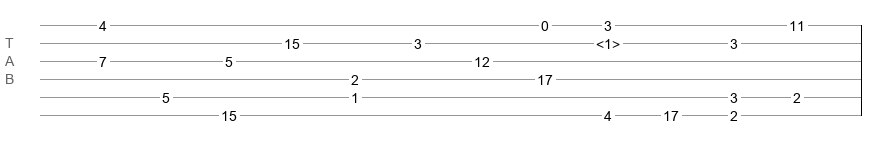0: (541, 18, 549, 28)
1: (351, 90, 359, 100)
11: (789, 18, 805, 28)
12: (474, 54, 490, 64)
15: (221, 108, 237, 118), (284, 36, 300, 46)
17: (537, 72, 553, 82), (663, 108, 679, 118)
2: (351, 72, 359, 82), (730, 108, 738, 118), (793, 90, 801, 100)
3: (414, 36, 422, 46), (604, 18, 612, 28), (730, 36, 738, 46), (730, 90, 738, 100)
4: (99, 18, 107, 28), (604, 108, 612, 118)
5: (162, 90, 170, 100), (225, 54, 233, 64)
7: (99, 54, 107, 64)
harmonic: (596, 36, 620, 46)
